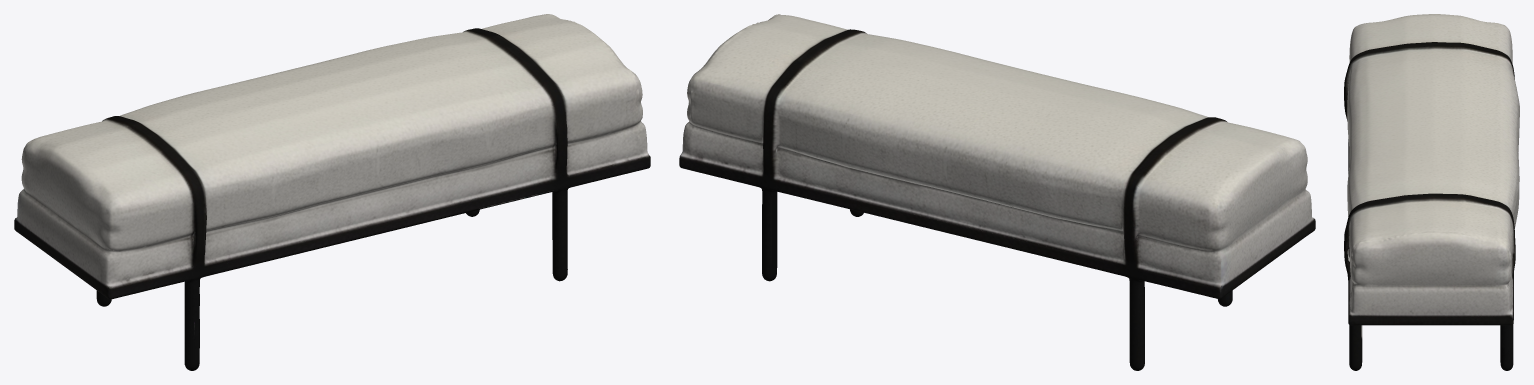
File: product-traditional-harris-accent-bench-knoll-domino-01.glb
3 views of the same model, side by side, from view 1: azimuth 30°, elevation 25°; view 2: azimuth 150°, elevation 25°; view 3: azimuth 270°, elevation 25° (orthographic). The views are drawn at different scales.
Parts seen in each view (by area): view 1: geometry_0; view 2: geometry_0; view 3: geometry_0.
Boxes of the visible parts, x1,y1,x2,y2 form: geometry_0: [14, 14, 650, 370]; geometry_0: [679, 14, 1315, 370]; geometry_0: [1344, 14, 1519, 370].
Bounding box in the file's own units: 1.97 × 0.7046 × 0.6428.
Materials: 1 (1 with a texture image).
